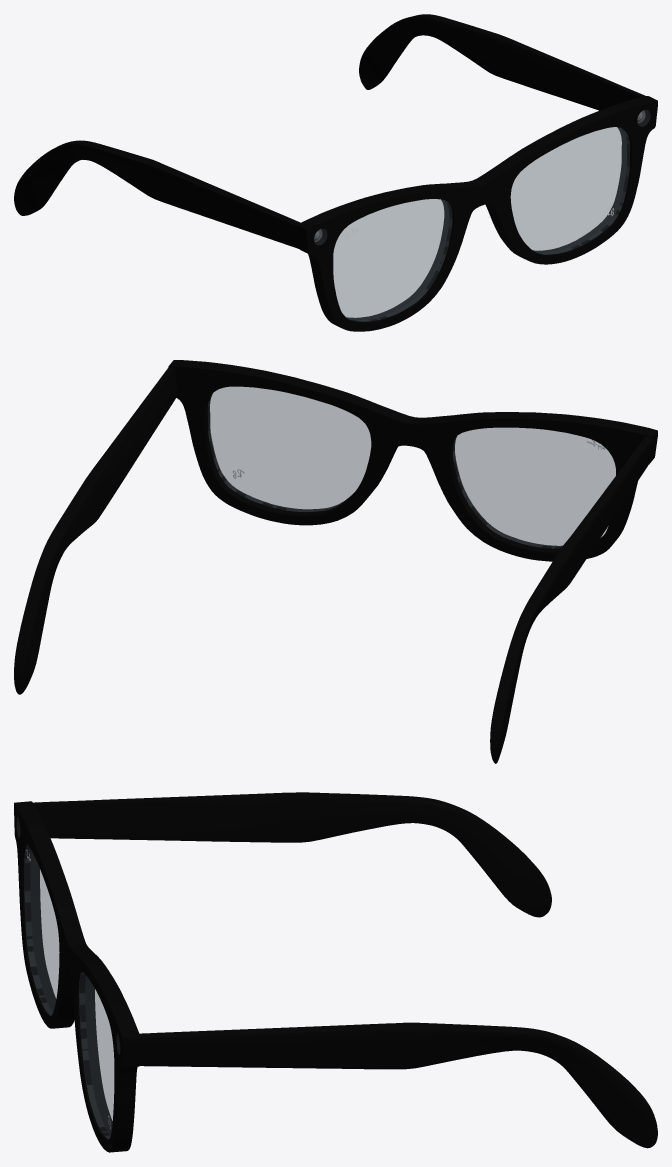
File: glasses3.glb
The picture shows the model from 3 angles, top to bottom: view 1: azimuth 30°, elevation 25°; view 2: azimuth 150°, elevation 25°; view 3: azimuth 270°, elevation 25°; orthographic projection. The views are drawn at different scales.
Visible parts, largest first — view 1: inside_lens002, legs002, frame005; view 2: inside_lens002, frame005, legs002; view 3: legs002, frame005, inside_lens002.
Boxes of the visible parts, <box> form: inside_lens002: <box>333,127,629,321</box>; legs002: <box>14,14,645,248</box>; frame005: <box>297,96,657,331</box>; inside_lens002: <box>208,387,615,548</box>; frame005: <box>168,360,657,561</box>; legs002: <box>14,367,652,763</box>; legs002: <box>33,792,657,1148</box>; frame005: <box>14,801,140,1152</box>; inside_lens002: <box>24,845,113,1138</box>.
Bounding box in the file's own units: 53.27 × 14.17 × 51.87.
7 materials, 2 textured.
